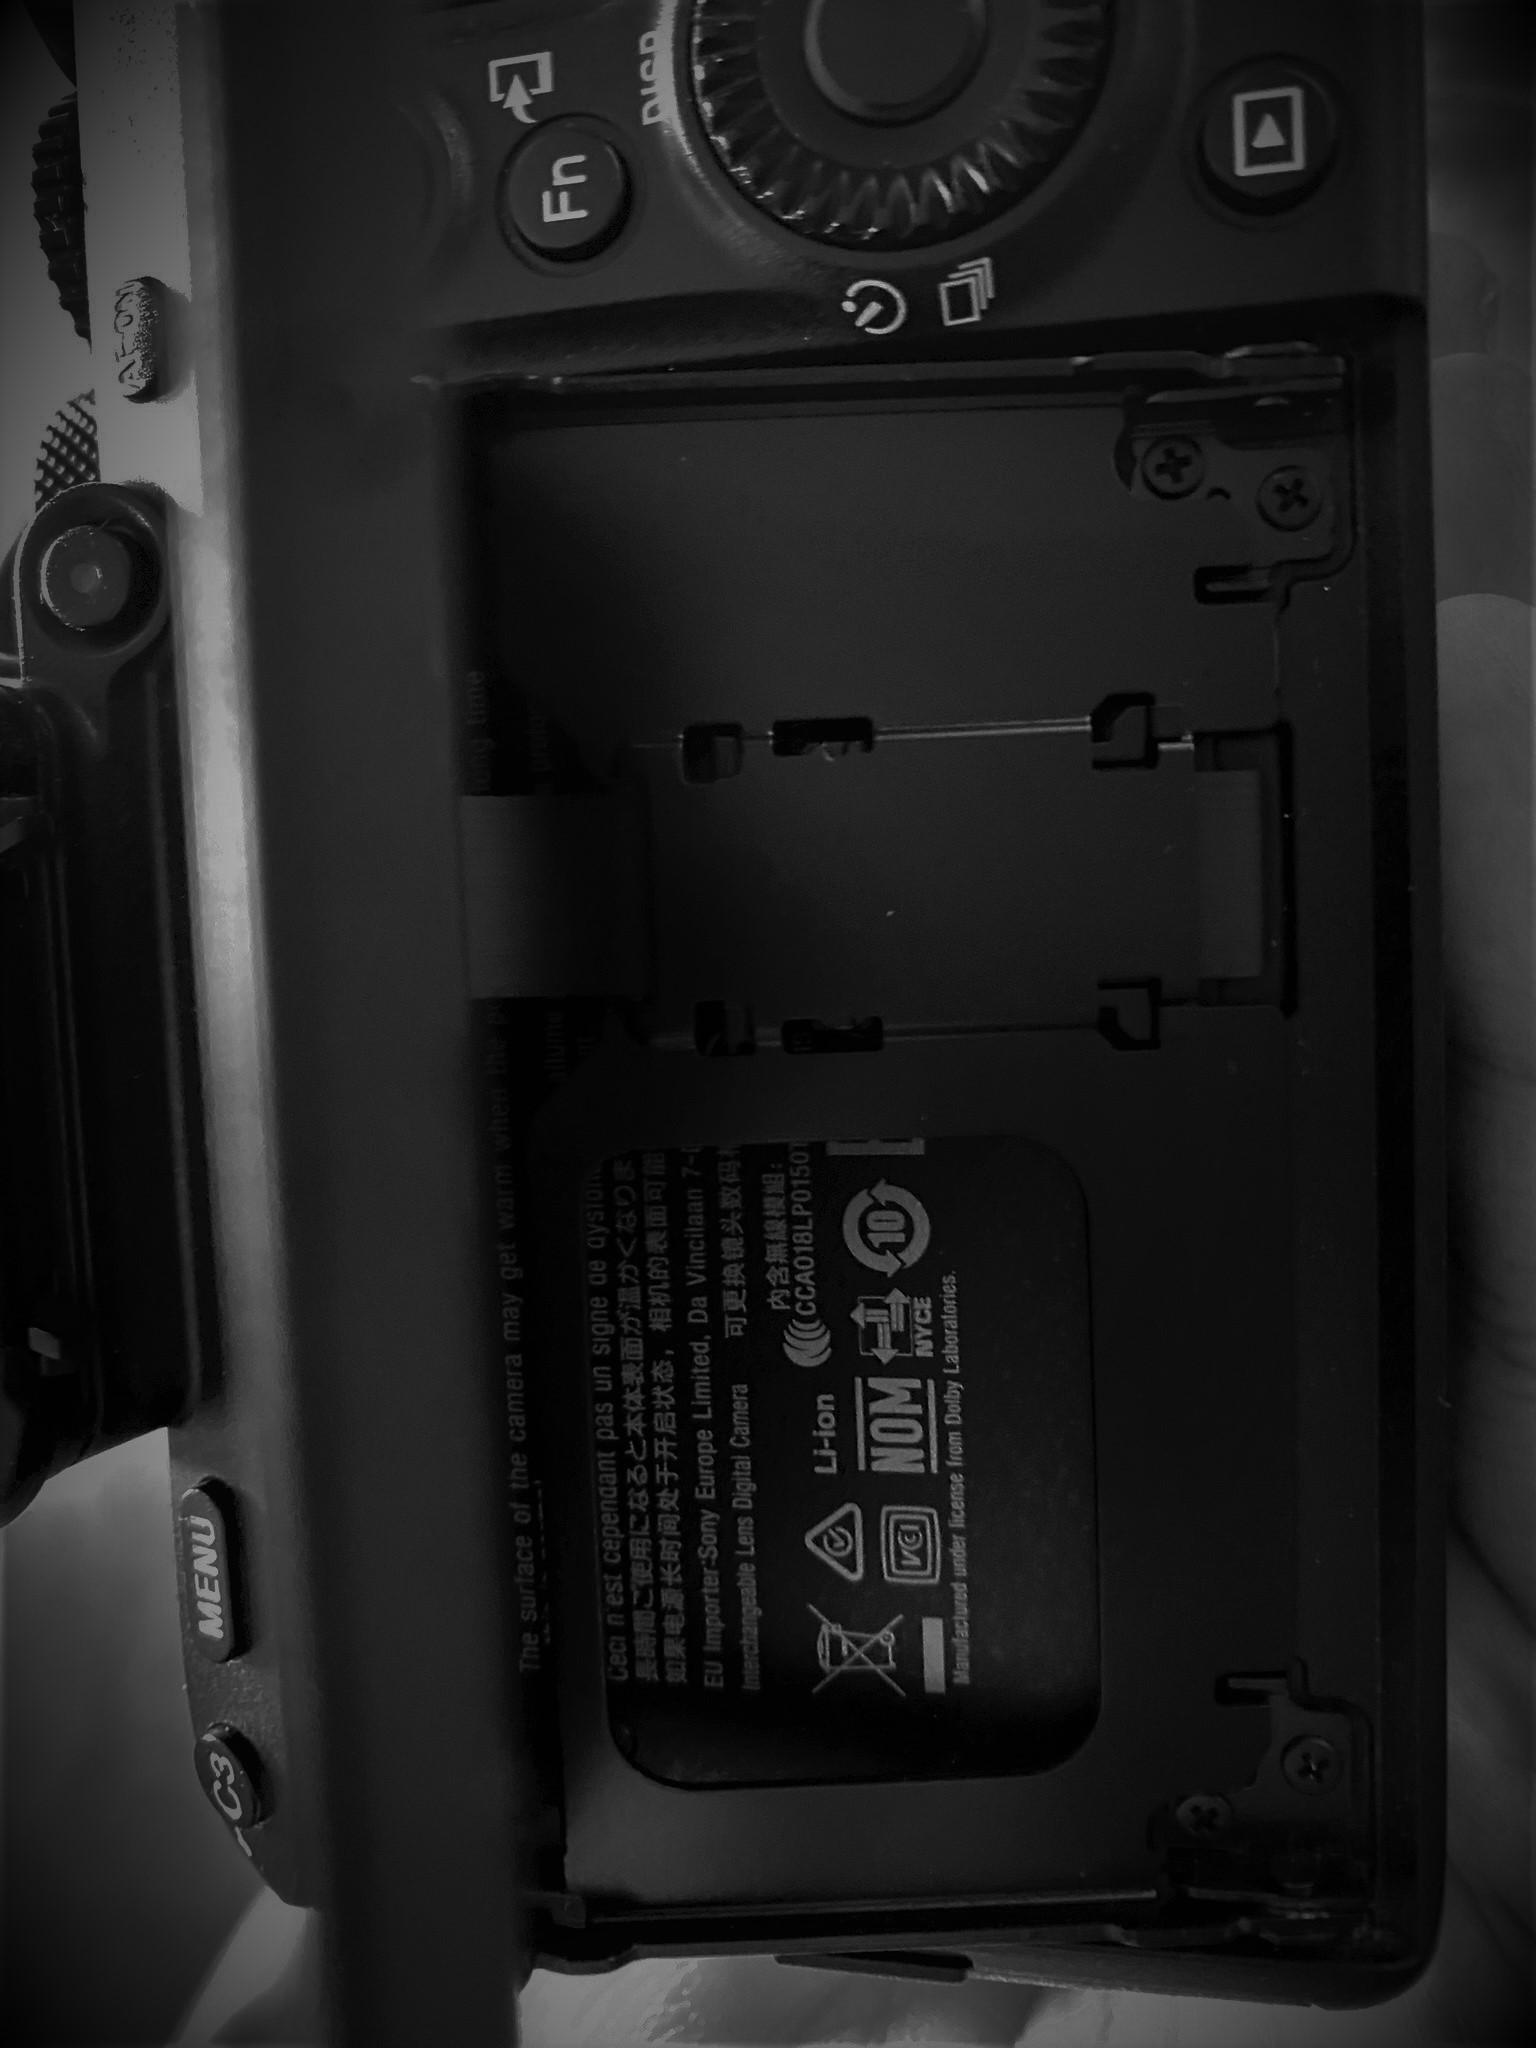PH: (1252, 462, 1324, 530), (1140, 434, 1204, 498), (1284, 1736, 1340, 1798), (1172, 1800, 1238, 1842)
